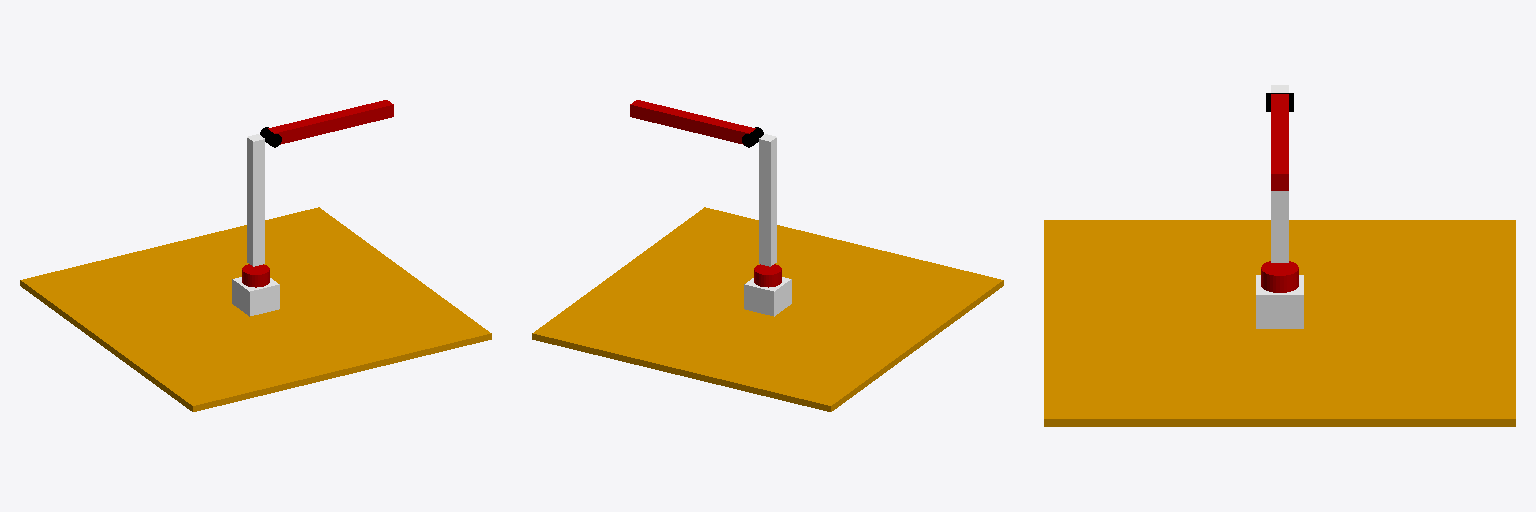
The robot description file, URDF, robot "Finder_arm":
<?xml version="1.0" ?>
<!-- =================================================================================== -->
<!-- |    This document was autogenerated by xacro from arm_robot.xacro                | -->
<!-- |    EDITING THIS FILE BY HAND IS NOT RECOMMENDED                                 | -->
<!-- =================================================================================== -->
<robot name="Finder_arm" xmlns:xacro="http://www.ros.org/wiki/xacro">
  <!--materials-->
  <material name="Black">
    <color rgba="0.0 0.0 0.0 1.0"/>
  </material>
  <material name="Red">
    <color rgba="0.8 0.0 0.0 1.0"/>
  </material>
  <material name="White">
    <color rgba="1.0 1.0 1.0 1.0"/>
  </material>
  <propert name="deg_to_rad" value="0.0174532925199432957"/>
  <!--botton fixed link-->
  <joint name="bottom_joint" type="fixed">
    <origin rpy="0 0 0 " xyz="0 0 0"/>
    <parent link="base_link"/>
    <child link="bottom_link"/>
  </joint>
  <link name="bottom_link">
    <visual>
      <origin rpy="0 0 0" xyz="0 0 -0.04"/>
      <geometry>
        <box size="1 1 0.02"/>
      </geometry>
      <material name="Brown"/>
    </visual>
    <collision>
      <origin rpy="0 0 0" xyz="0 0 -0.04"/>
      <geometry>
        <box size="1 1 0.02"/>
      </geometry>
    </collision>
  </link>
  <gazebo reference="bottom_link">
    <material> Gazebo/White </material>
  </gazebo>
  <!--base_link-->
  <link name="base_link">
    <visual>
      <origin rpy="1.570795 0 0" xyz="0 0 0"/>
      <geometry>
        <box size="0.1 0.1 0.1"/>
      </geometry>
      <material name="White"/>
    </visual>
    <collision>
      <origin rpy="1.570795 0 0" xyz="0 0 0"/>
      <geometry>
        <box size="0.1 0.1 0.1"/>
      </geometry>
    </collision>
    <inertial>
      <mass value="1"/>
      <inertia ixx="1.0" ixy="0.0" ixz="0.0" iyy="0.5" iyz="0.0" izz="1.0"/>
    </inertial>
  </link>
  <gazebo reference="base_link">
    <material> Gazebo/White </material>
  </gazebo>
  <joint name="shoulder_pan_joint" type="revolute">
    <parent link="base_link"/>
    <child link="shoulder_pan_link"/>
    <origin rpy="0 1.570795 0.0" xyz="0 0 0.05"/>
    <axis xyz="-1 0 0"/>
    <limit effort="300" lower="-2.61799387799" upper="1.9839484856" velocity="1"/>
    <dynamics damping="50" friction="1"/>
  </joint>
  <!--shoulder pan_link-->
  <link name="shoulder_pan_link">
    <visual>
      <origin rpy="0 1.570795 0" xyz="0 0 0"/>
      <geometry>
        <cylinder length="0.08" radius="0.04"/>
      </geometry>
      <material name="Red"/>
    </visual>
    <collision>
      <origin rpy="0 1.570795 0" xyz="0 0 0"/>
      <geometry>
        <cylinder length="0.08" radius="0.04"/>
      </geometry>
    </collision>
    <inertial>
      <mass value="1"/>
      <inertia ixx="1.0" ixy="0.0" ixz="0.0" iyy="0.5" iyz="0.0" izz="1.0"/>
    </inertial>
  </link>
  <gazebo reference="shoulder_pan_link">
    <material>Gazebo/Red </material>
  </gazebo>
  <joint name="shoulder_pitch_joint" type="revolute">
    <parent link="shoulder_pan_link"/>
    <child link="shoulder_pitch_link"/>
    <origin rpy="-1.570795 0 1.570795" xyz="-0.08 0.0021 0.0"/>
    <axis xyz="1 0 0"/>
    <limit effort="300" lower="-1.19962513147" upper="1.89994105047" velocity="1"/>
    <dynamics damping="50" friction="1"/>
  </joint>
  <!-- shoulder pich link-->
  <link name="shoulder_pitch_link">
    <visual>
      <origin rpy="0 1.570795 0" xyz="-0.002 0 0.18"/>
      <geometry>
        <box size="0.4 0.04 0.04"/>
      </geometry>
      <material name="White"/>
    </visual>
    <collision>
      <origin rpy="0 1.570795 0" xyz="-0.002 0 0.18"/>
      <geometry>
        <box size="0.4 0.04 0.04"/>
      </geometry>
    </collision>
    <inertial>
      <mass value="1"/>
      <inertia ixx="1.0" ixy="0.0" ixz="0.0" iyy="0.5" iyz="0.0" izz="1.0"/>
    </inertial>
  </link>
  <gazebo reference="shoulder_pitch_link">
    <material>Gazebo/White</material>
  </gazebo>
  <joint name="elbow_roll_joint" type="revolute">
    <parent link="shoulder_pitch_link"/>
    <child link="elbow_roll_link"/>
    <origin rpy="1.570795 0 0" xyz="-0.002 -0.05 0.37"/>
    <axis xyz="1 0 0"/>
    <limit effort="300" lower="-1.87" upper="1.5" velocity="1"/>
    <dynamics damping="50" friction="1"/>
  </joint>
  <!--elbow roll link-->
  <link name="elbow_roll_link">
    <visual>
      <origin rpy="0 -1.570795 0" xyz="0.0 0.0 0.0"/>
      <geometry>
        <cylinder length="0.06" radius="0.02"/>
      </geometry>
      <material name="Black"/>
    </visual>
    <collision>
      <origin rpy="0 -1.570795 0" xyz="0.0 0.0 0.0"/>
      <geometry>
        <cylinder length="0.06" radius="0.02"/>
      </geometry>
    </collision>
    <inertial>
      <mass value="1"/>
      <inertia ixx="1.0" ixy="0.0" ixz="0.0" iyy="0.5" iyz="0.0" izz="1.0"/>
    </inertial>
  </link>
  <gazebo reference="elbow_roll_link">
    <material>Gazebo/Black</material>
  </gazebo>
  <joint name="elbow_pitch_joint" type="fixed">
    <parent link="elbow_roll_link"/>
    <child link="elbow_pitch_link"/>
    <origin rpy="0.0 0.0 0.0" xyz="0 0 0.2"/>
    <axis xyz="1 0 0"/>
    <limit effort="300" lower="-1.5953400194" upper="1.93281579274" velocity="1"/>
    <dynamics damping="50" friction="1"/>
  </joint>
  <!--elbow_pitch_link-->
  <link name="elbow_pitch_link">
    <visual>
      <origin rpy="0 1.570795 0" xyz="0 0 0"/>
      <geometry>
        <box size="0.4 0.04 0.04"/>
      </geometry>
      <material name="Red"/>
    </visual>
  </link>
  <gazebo reference="elbow_pitch_link">
    <material>Gazebo/Red</material>
  </gazebo>
  <!-- Transmissions for ROS Control -->
  <transmission name="tran1">
    <type>transmission_interface/SimpleTransmssion</type>
    <joint name="shoulder_pan_joint">
      <hardwareInterface>hardware_interface/PositionJointInterface</hardwareInterface>
    </joint>
    <actuator name="motor1">
      <hardwareInterface>hardware_interface/PositionJointInterface</hardwareInterface>
      <mechanicalReduction>1</mechanicalReduction>
    </actuator>
  </transmission>
  <transmission name="tran1">
    <type>transmission_interface/SimpleTransmssion</type>
    <joint name="shoulder_pitch_joint">
      <hardwareInterface>hardware_interface/PositionJointInterface</hardwareInterface>
    </joint>
    <actuator name="motor1">
      <hardwareInterface>hardware_interface/PositionJointInterface</hardwareInterface>
      <mechanicalReduction>1</mechanicalReduction>
    </actuator>
  </transmission>
  <transmission name="tran1">
    <type>transmission_interface/SimpleTransmssion</type>
    <joint name="elbow_roll_joint">
      <hardwareInterface>hardware_interface/PositionJointInterface</hardwareInterface>
    </joint>
    <actuator name="motor1">
      <hardwareInterface>hardware_interface/PositionJointInterface</hardwareInterface>
      <mechanicalReduction>1</mechanicalReduction>
    </actuator>
  </transmission>
  <!--xacro:transmission_block joint_name="elbow_pitch_joint"/-->
  <gazebo>
    <plugin filename="libgazebo_ros_control.so" name="gazebo_ros_control">
      <robotNamespace>/Finder_arm</robotNamespace>
      <robotSimType>gazebo_ros_control/DefaultRobotHWSim</robotSimType>
      <legacyModeNS>True</legacyModeNS>
    </plugin>
  </gazebo>
</robot>

--- What the picture shows (computed from the rendered views, not written in the file) ---
The picture shows the robot from 3 angles, left to right: view 1: azimuth 30°, elevation 25°; view 2: azimuth 150°, elevation 25°; view 3: azimuth 270°, elevation 25°; orthographic projection.
Robot: Finder_arm — 6 links, 5 joints (3 revolute, 2 fixed); root link base_link; default pose: every joint at zero.
Visible links, largest first — view 1: bottom_link, shoulder_pitch_link, elbow_pitch_link, base_link, shoulder_pan_link; view 2: bottom_link, shoulder_pitch_link, elbow_pitch_link, base_link, shoulder_pan_link; view 3: bottom_link, base_link, elbow_pitch_link, shoulder_pitch_link, shoulder_pan_link.
Link boxes in pixels (x1,y1,x2,y2): bottom_link: (20, 207, 491, 411); shoulder_pitch_link: (247, 134, 264, 266); elbow_pitch_link: (268, 100, 393, 144); base_link: (232, 277, 279, 316); shoulder_pan_link: (242, 264, 269, 287); bottom_link: (532, 207, 1003, 411); shoulder_pitch_link: (759, 134, 776, 266); elbow_pitch_link: (630, 100, 755, 144); base_link: (744, 277, 791, 316); shoulder_pan_link: (754, 264, 781, 287); bottom_link: (1044, 220, 1515, 426); base_link: (1256, 275, 1303, 328); elbow_pitch_link: (1271, 94, 1288, 190); shoulder_pitch_link: (1271, 85, 1288, 262); shoulder_pan_link: (1261, 261, 1298, 292).
Size in the robot's own frame: 1 by 1 by 0.57 metres.
Geometry: primitives only (box / cylinder / sphere), no mesh files.